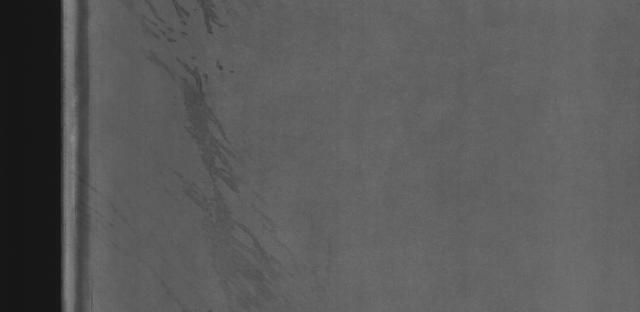water_spot: (139, 6, 275, 299)
